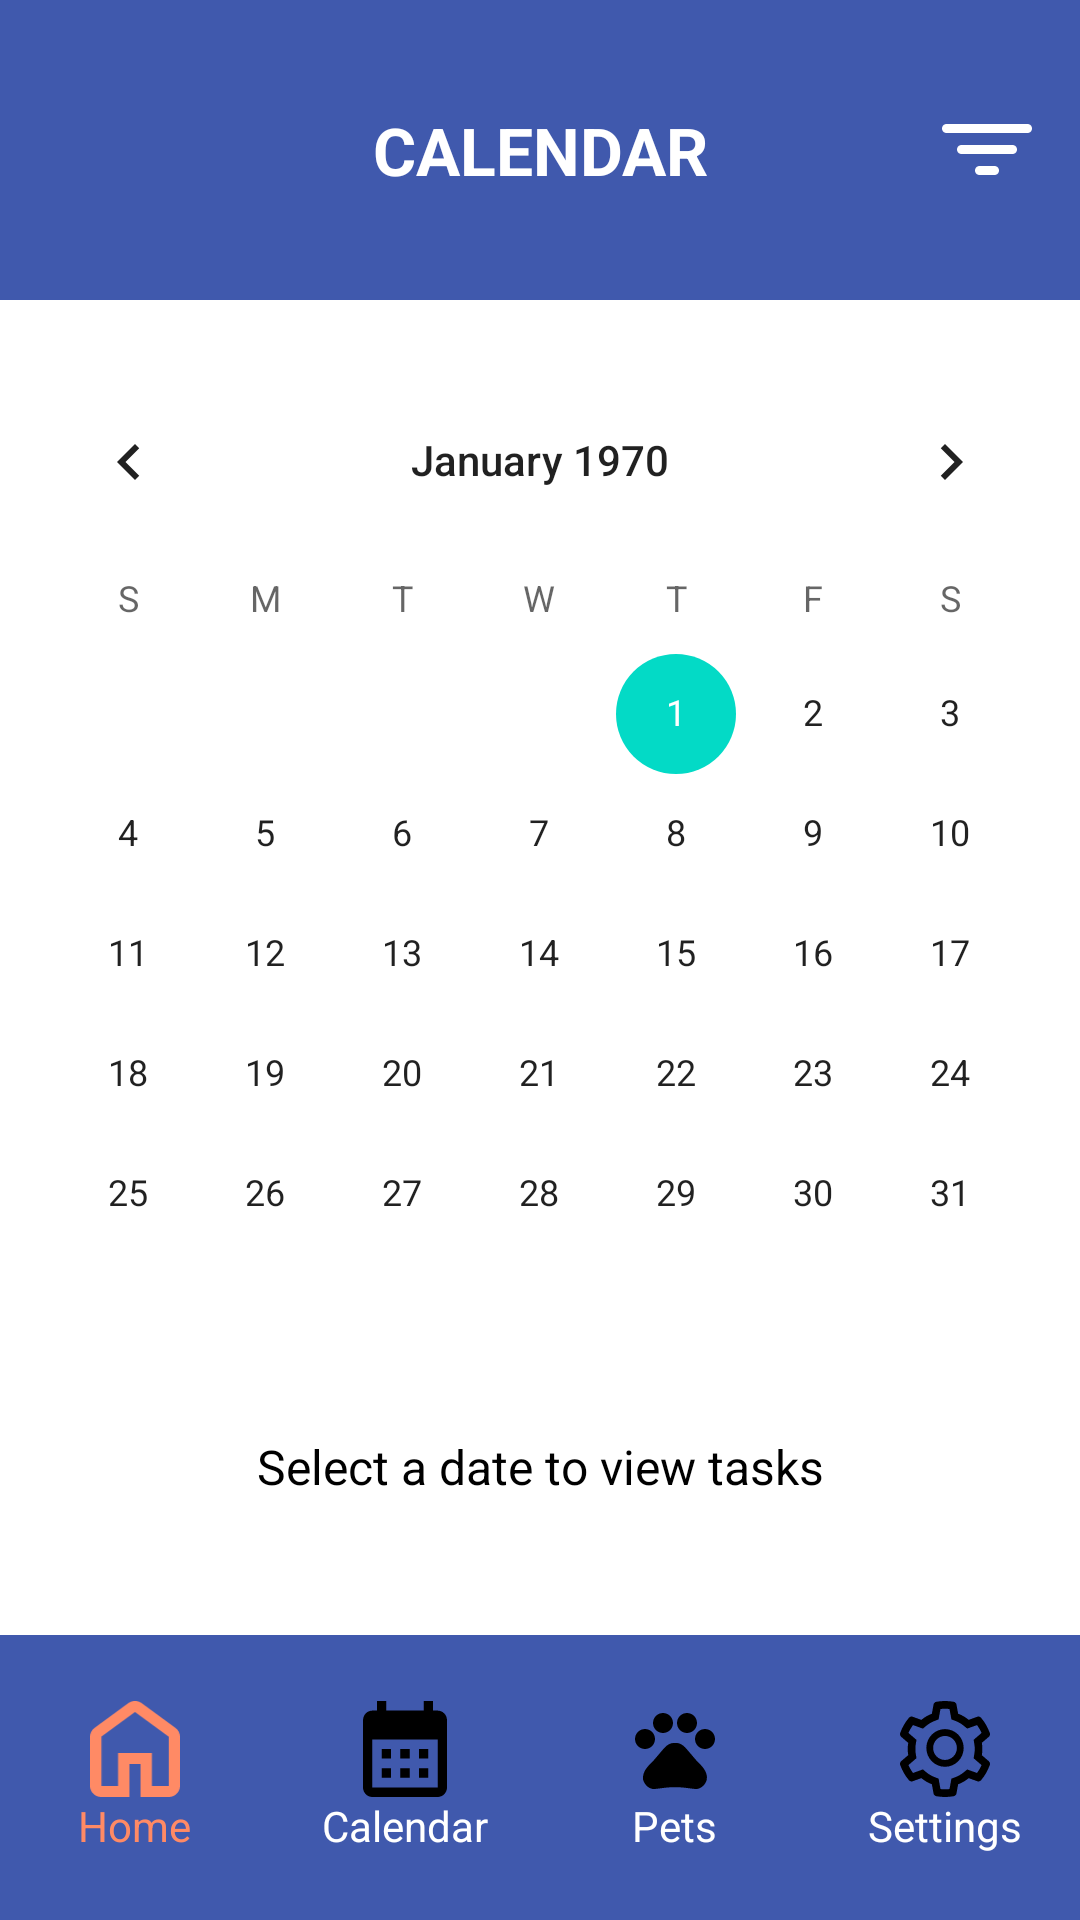

Named icons in this screenshot (1080w x 1920h) and their bounding boxes, (x1, y1, x2, y2):
filter: (942, 124, 1032, 175)
